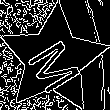M_NE: (20, 26, 86, 92)
